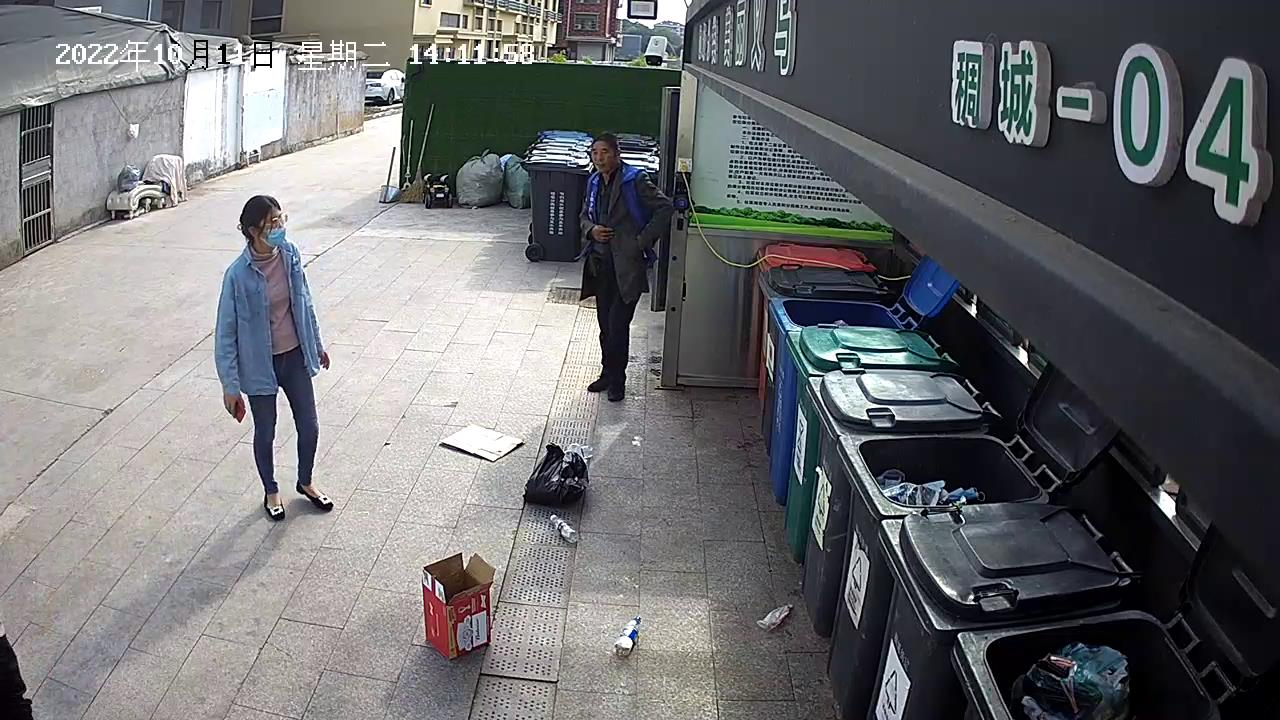garbage-bag: (521, 441, 596, 511)
suliaozhipin: (611, 614, 642, 660), (754, 602, 795, 633), (547, 510, 581, 546)
worker: (212, 194, 342, 521), (574, 132, 675, 406)
zhizhipin: (421, 549, 497, 664), (435, 421, 527, 464)
